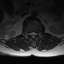CCS_normal: (32, 30, 34, 40)
LFS_stenosis: (36, 30, 39, 37)
LLS_normal: (34, 30, 36, 38)
RFS_normal: (26, 30, 29, 37)
RLS_normal: (29, 30, 32, 38)
